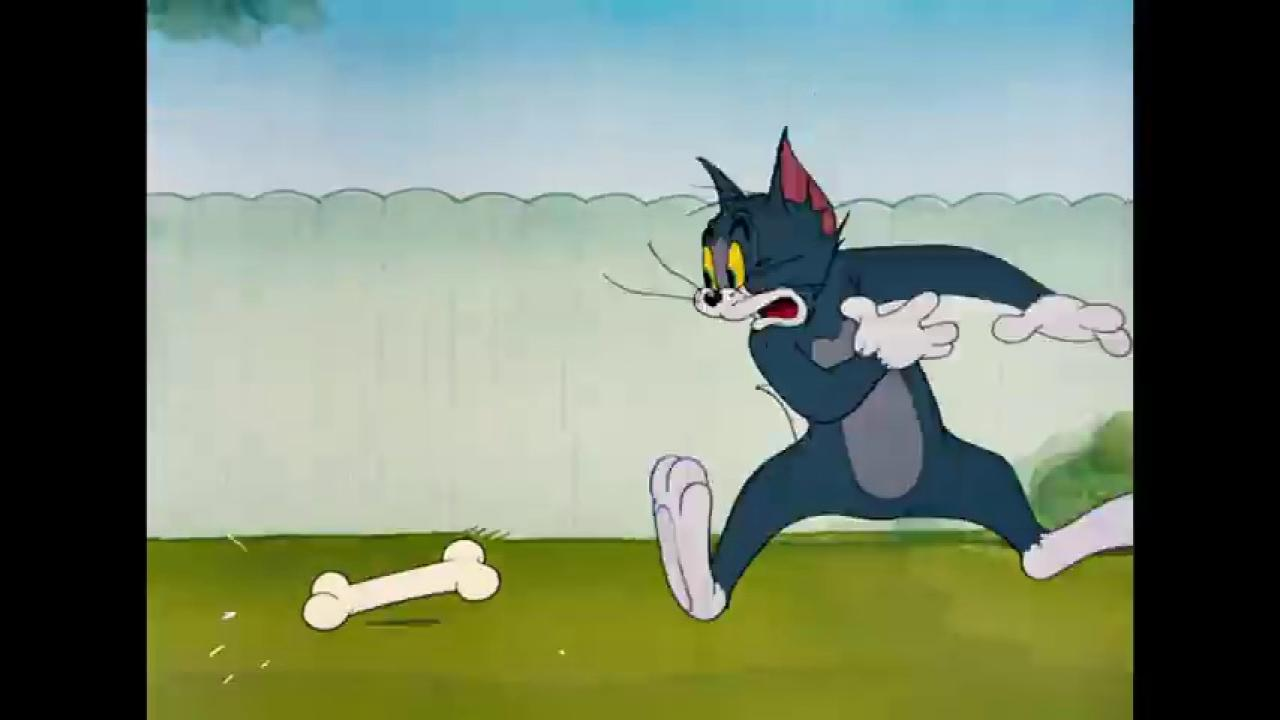Tom: (650, 121, 1135, 624)
